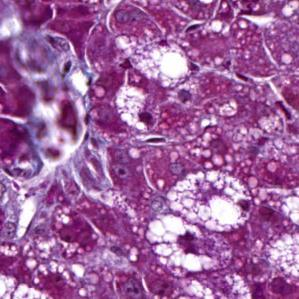ballooning: (164, 167, 255, 234), (144, 212, 235, 279), (120, 35, 195, 91), (108, 83, 158, 140)
